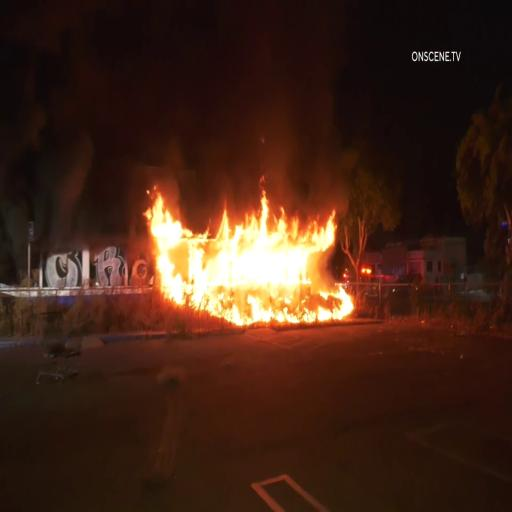fire: (150, 180, 357, 328)
